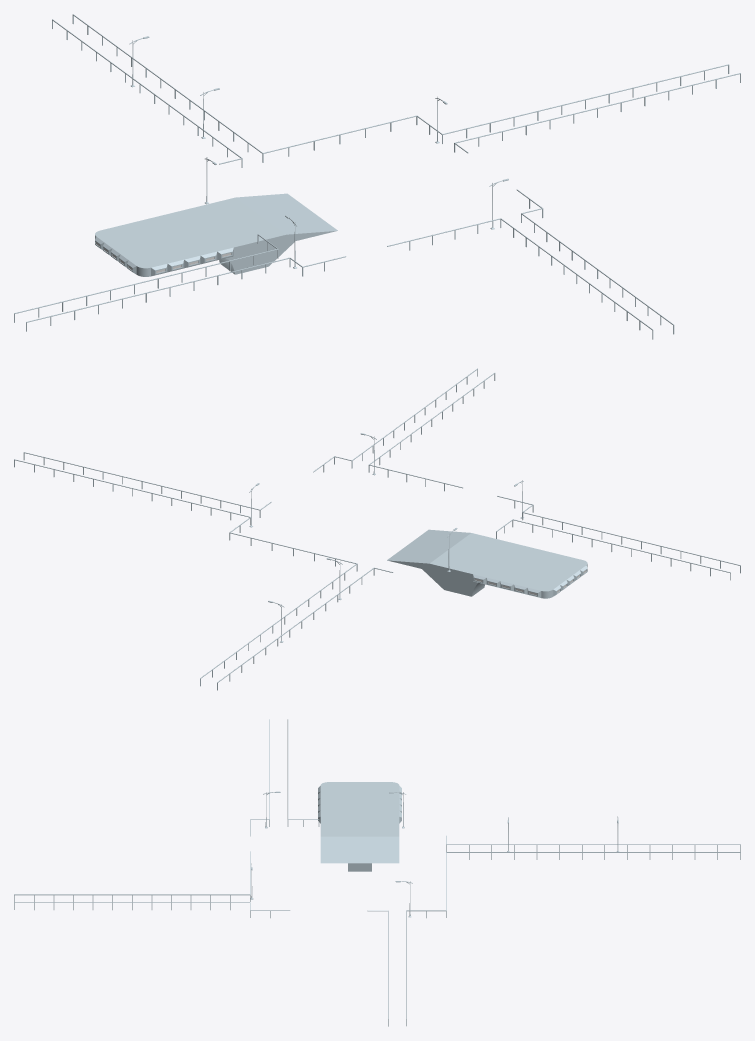
File: galvronStreetLights.glb
The picture shows the model from 3 angles, top to bottom: view 1: azimuth 30°, elevation 25°; view 2: azimuth 150°, elevation 25°; view 3: azimuth 270°, elevation 25°; orthographic projection. The views are drawn at different scales.
Visible parts, largest first — view 1: GalvronStreetLights; view 2: GalvronStreetLights; view 3: GalvronStreetLights.
Boxes of the visible parts, x1,y1,x2,y2 form: GalvronStreetLights: (14,14,740,339); GalvronStreetLights: (14,368,740,690); GalvronStreetLights: (14,719,740,1026).
Size of the model in its own units: 86.47 by 9.39 by 88.68.
